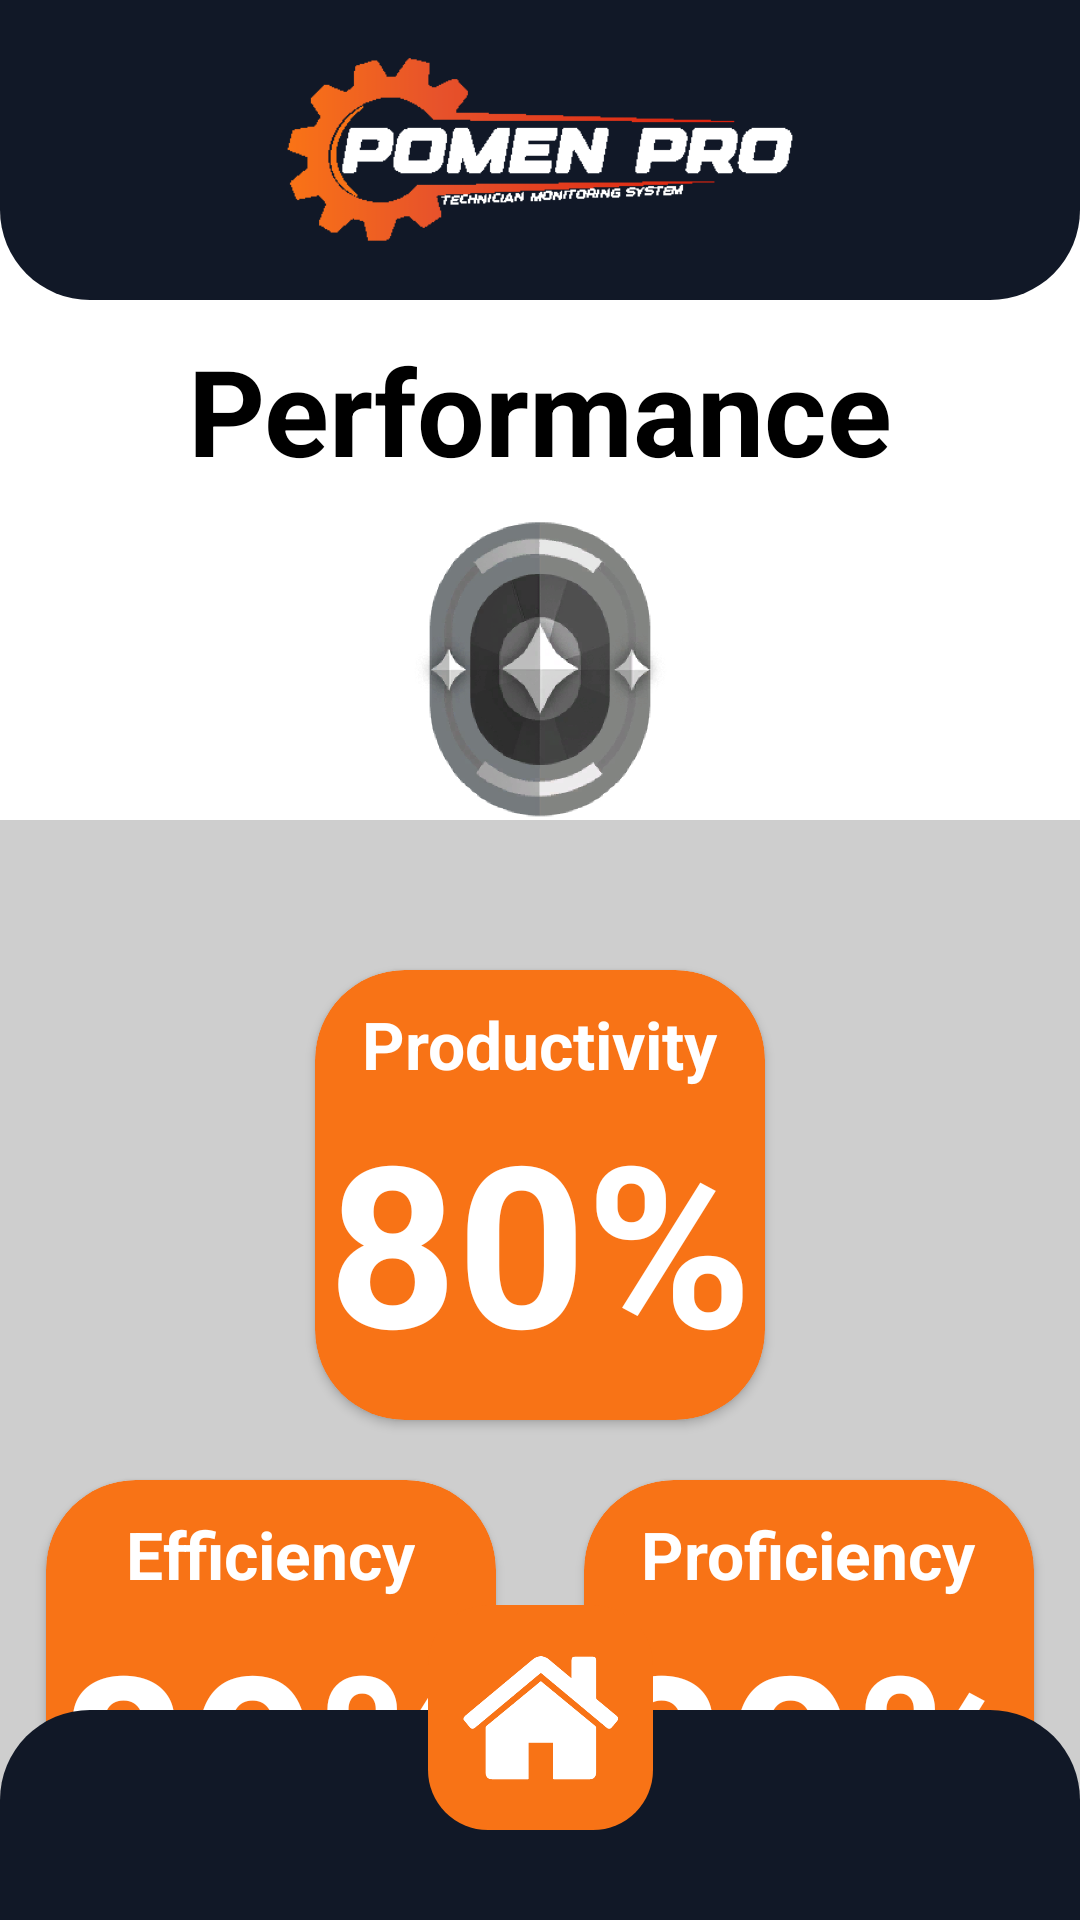

Point at icon controls on the screen. Image size 1080w x 1920h, points as (x=x, y=y).
badges iron: (x=540, y=669)
